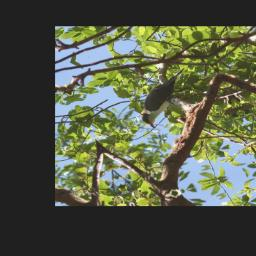Cuckoo: (124, 69, 210, 131)
